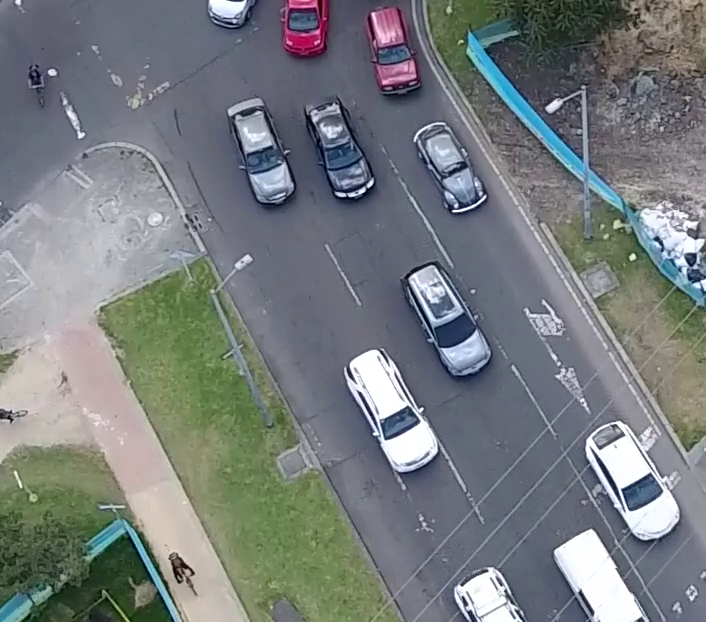car: (339, 344, 440, 477), (580, 417, 684, 545), (400, 259, 495, 381), (218, 92, 298, 210), (303, 95, 377, 205), (410, 119, 489, 217), (362, 4, 424, 98)
